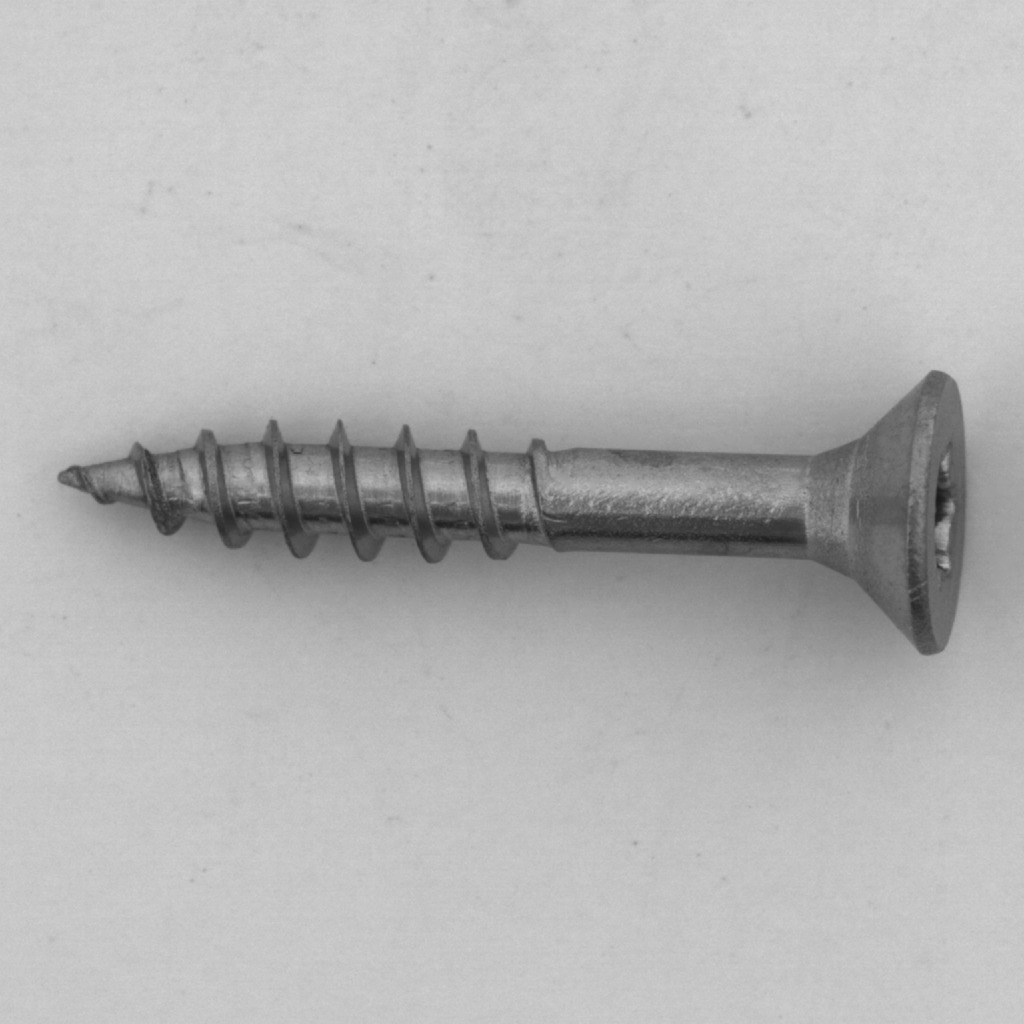good: (34, 356, 990, 649)
